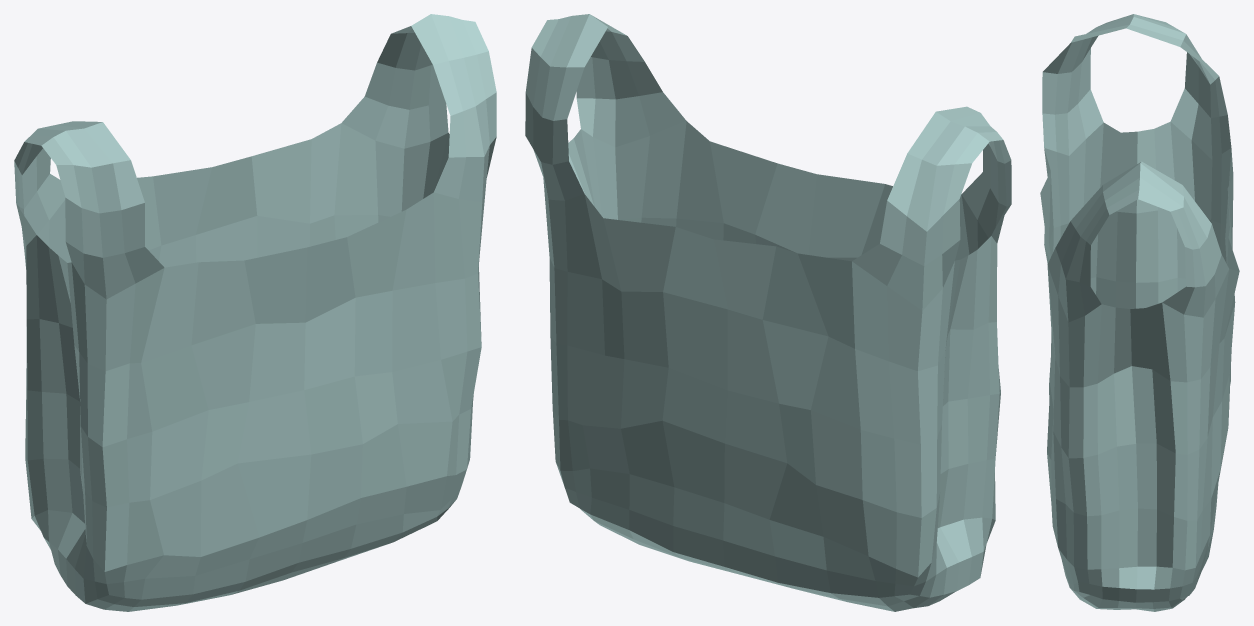
Rendered from Pbag.fbx.
3 renders of one model, left to right at view 1: azimuth 30°, elevation 25°; view 2: azimuth 150°, elevation 25°; view 3: azimuth 270°, elevation 25°, orthographic. The views are drawn at different scales.
Parts seen in each view (by area): view 1: Plane; view 2: Plane; view 3: Plane.
Part boxes in pixels (x1,y1,x2,y2): Plane: (14, 14, 496, 611); Plane: (525, 14, 1011, 611); Plane: (1040, 14, 1239, 611).
Size of the model in its own units: 69.2 by 77.59 by 29.14.
1 material, 1 textured.
